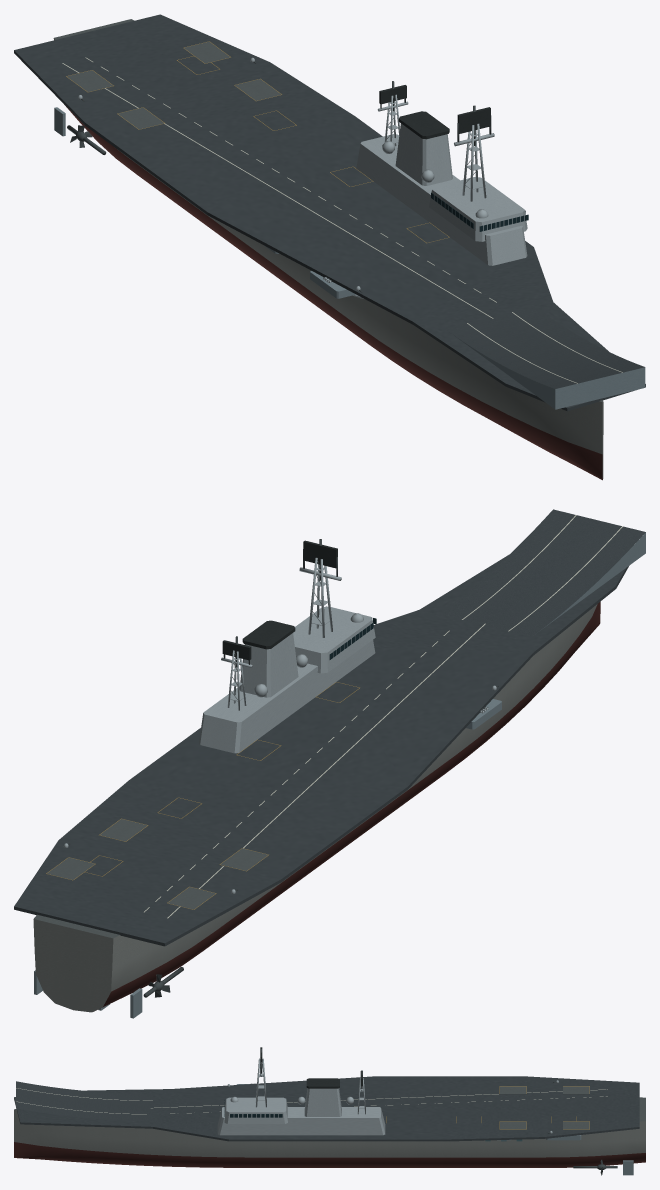
Rendered from wings_admiral_kuznetsov_project1143_5.glb.
The picture shows the model from 3 angles, top to bottom: view 1: azimuth 30°, elevation 25°; view 2: azimuth 150°, elevation 25°; view 3: azimuth 270°, elevation 25°; orthographic projection. The views are drawn at different scales.
Parts seen in each view (by area): view 1: static_hull_deck_superstructure; view 2: static_hull_deck_superstructure; view 3: static_hull_deck_superstructure.
Part boxes in pixels (x1,y1,x2,y2): static_hull_deck_superstructure: (14,14,645,480); static_hull_deck_superstructure: (14,509,645,1018); static_hull_deck_superstructure: (14,1047,645,1175).
Size of the model in its own units: 72 by 71.26 by 304.
Materials: 1 (1 with a texture image).
